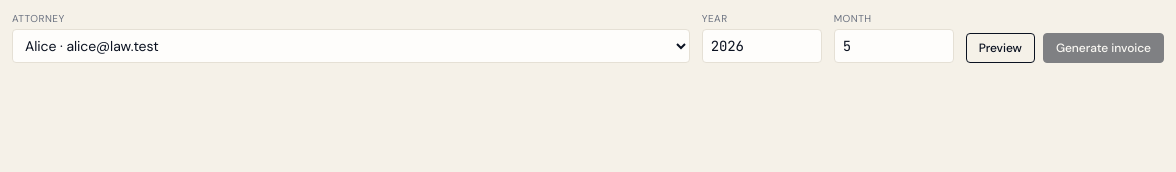
Test: AdminInvoicePanel — preview flow › hides preview + disables Generate when attorney changes after Preview (stale guard)
This screenshot has width=1176, height=172.
Click the button "Preview": (1000,48) [966, 33, 1035, 63]
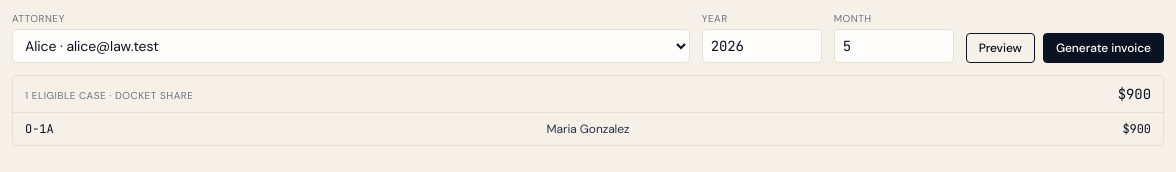
Expected: the text "Maria Gonzalez" is shown, [547, 121, 629, 137]
Switch attorney → preview must hide and Generate disable.
Select "Bob · bob@law.test" in the dropdown: (351,46) [12, 29, 690, 63]
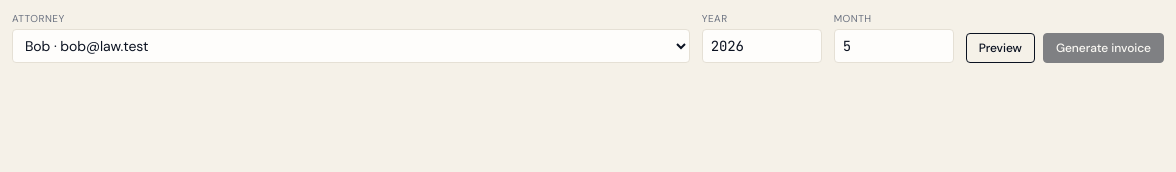
Expected: the text "Maria Gonzalez" is gone
Expected: the button "Generate invoice" is disabled, [1043, 33, 1164, 63]
